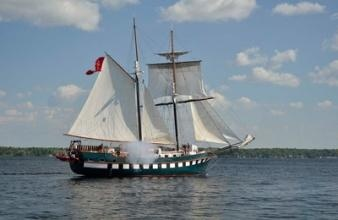fanchuan: (62, 33, 237, 180)
